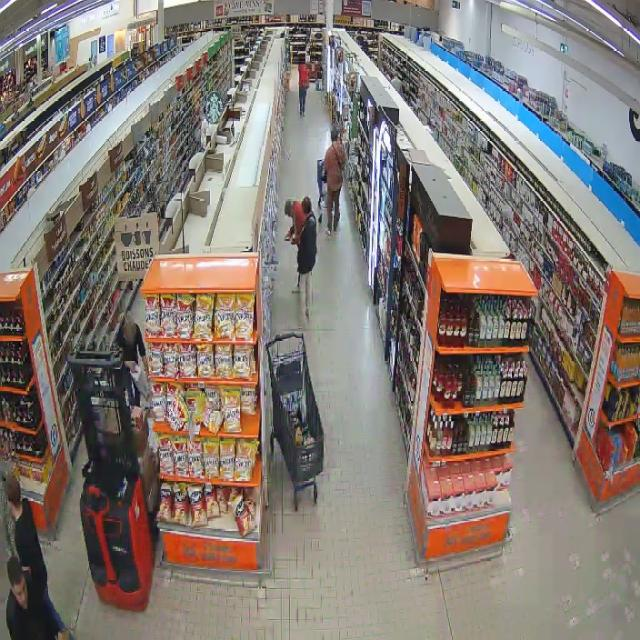article: (130, 365, 147, 396), (285, 234, 294, 240)
hands: (126, 361, 137, 373), (143, 367, 149, 377), (292, 235, 298, 244), (285, 231, 291, 237)
person: (5, 475, 64, 628), (7, 556, 65, 639), (116, 315, 149, 396), (324, 127, 346, 235), (298, 197, 317, 319), (285, 199, 306, 245), (299, 64, 309, 116)
